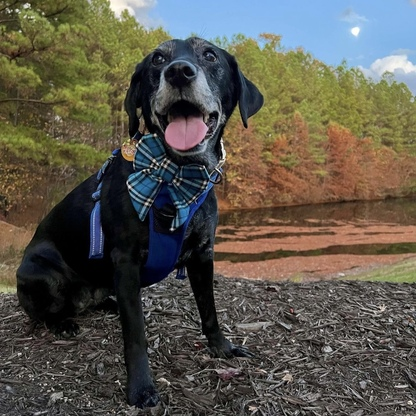labrado: (15, 31, 268, 416)
